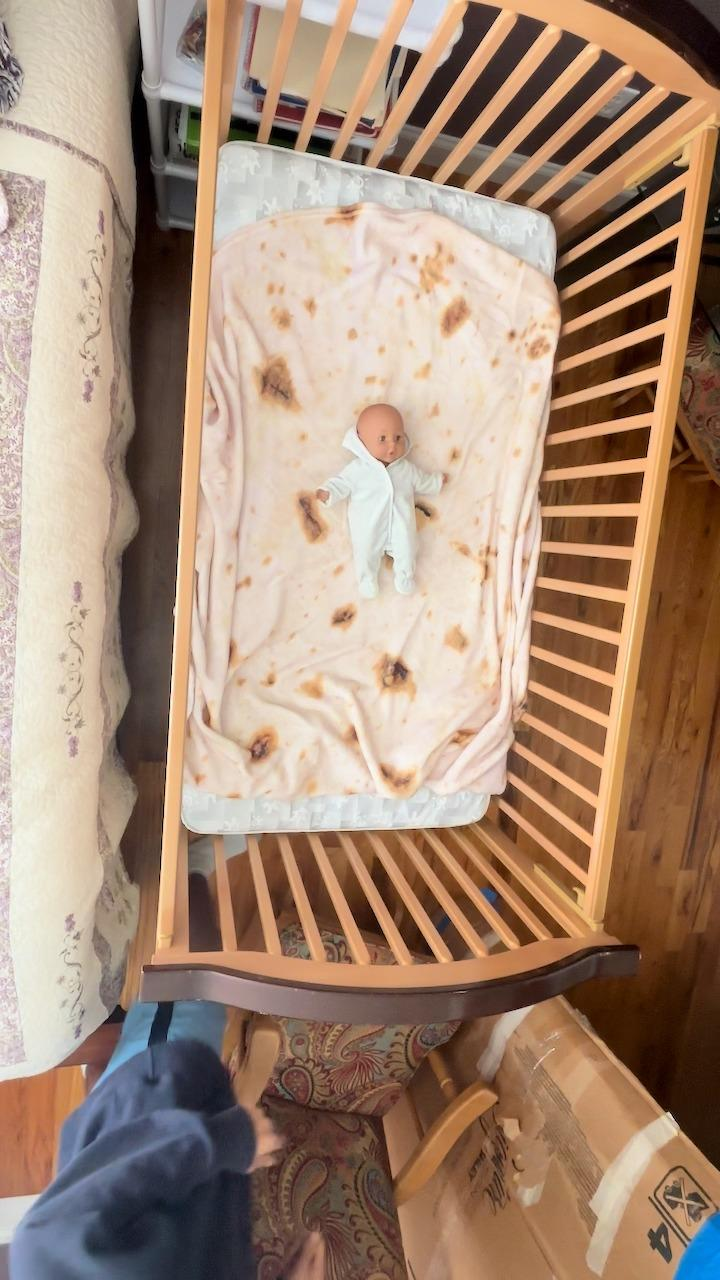baby: (308, 400, 458, 602)
